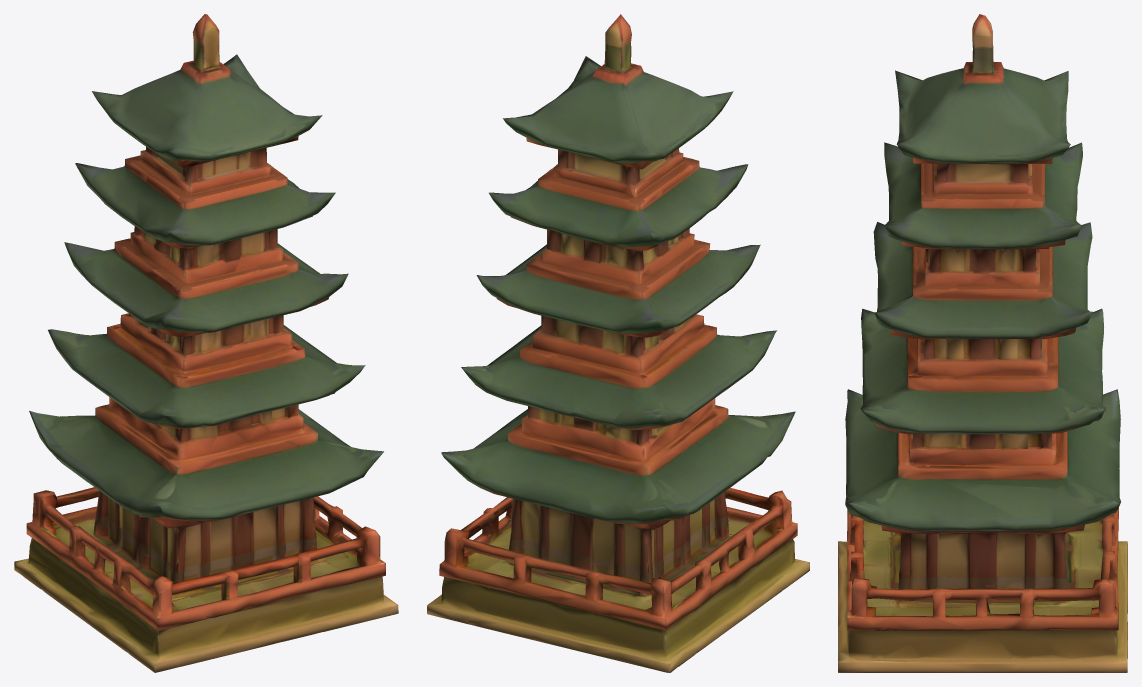
Rendered from jtowermodel.glb.
The picture shows the model from 3 angles, left to right: view 1: azimuth 30°, elevation 25°; view 2: azimuth 150°, elevation 25°; view 3: azimuth 270°, elevation 25°; orthographic projection. The views are drawn at different scales.
Size of the model in its own units: 0.8813 by 2 by 0.8788.
1 material, 1 textured.
